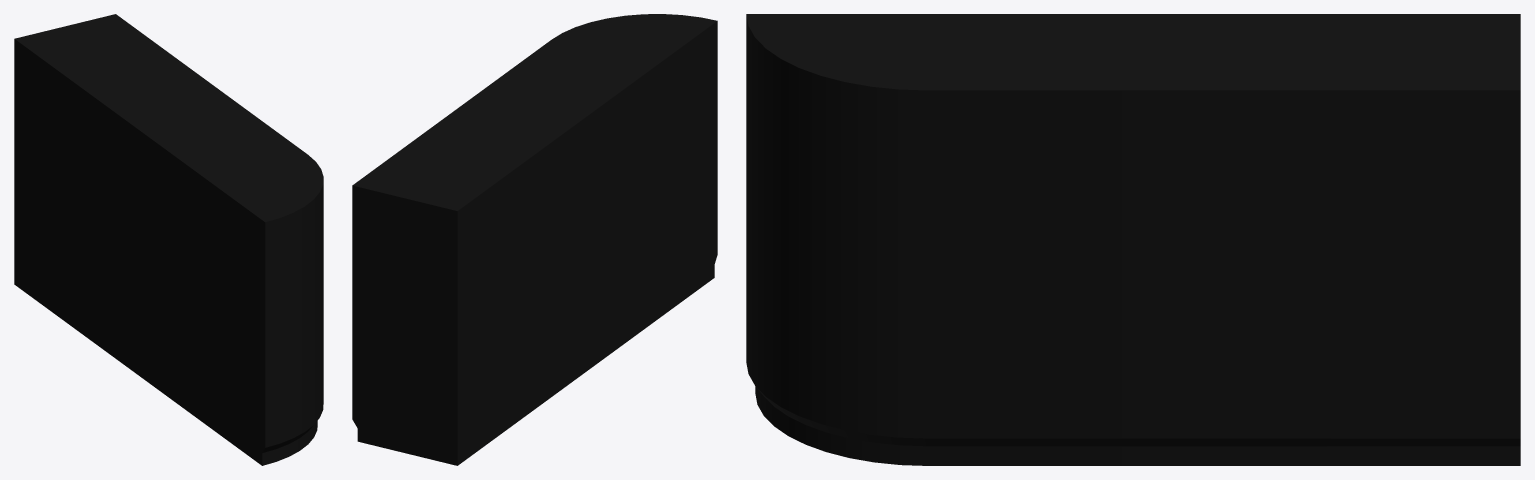
Rendered from CoffShop_Celing_01.fbx.
3 renders of one model, left to right at view 1: azimuth 30°, elevation 25°; view 2: azimuth 150°, elevation 25°; view 3: azimuth 270°, elevation 25°, orthographic. The views are drawn at different scales.
Parts seen in each view (by area): view 1: CoffShop_Celing_01; view 2: CoffShop_Celing_01; view 3: CoffShop_Celing_01.
Part boxes in pixels (bbox=[...]): CoffShop_Celing_01: bbox=[14, 14, 323, 465]; CoffShop_Celing_01: bbox=[352, 14, 717, 465]; CoffShop_Celing_01: bbox=[746, 14, 1520, 465].
Bounding box in the file's own units: 60.96 × 141 × 261.
